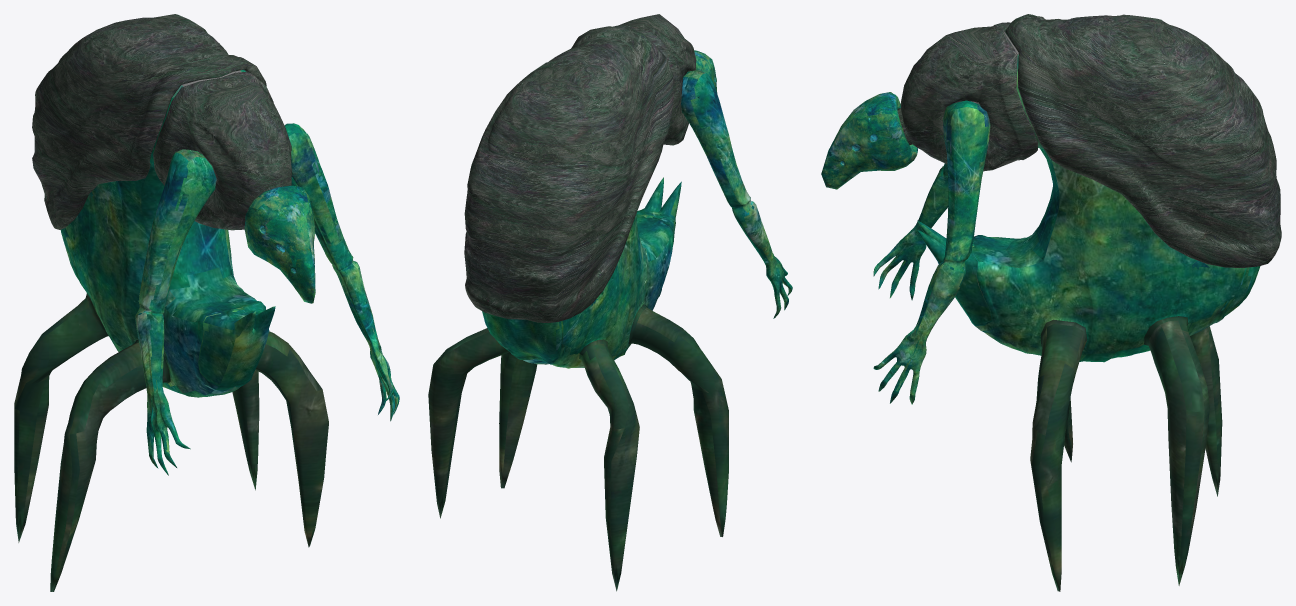
File: Andar.0019.obj
3 renders of one model, left to right at view 1: azimuth 30°, elevation 25°; view 2: azimuth 150°, elevation 25°; view 3: azimuth 270°, elevation 25°, orthographic. The views are drawn at different scales.
Parts seen in each view (by area): view 1: pCube14; view 2: pCube14; view 3: pCube14.
Boxes of the visible parts, x1=… form: pCube14: x1=14, y1=14, x2=399, y2=591; pCube14: x1=428, y1=14, x2=792, y2=591; pCube14: x1=821, y1=14, x2=1281, y2=591.
Size of the model in its own units: 2.08 by 3.96 by 3.2.
Materials: 5 (4 with a texture image).
